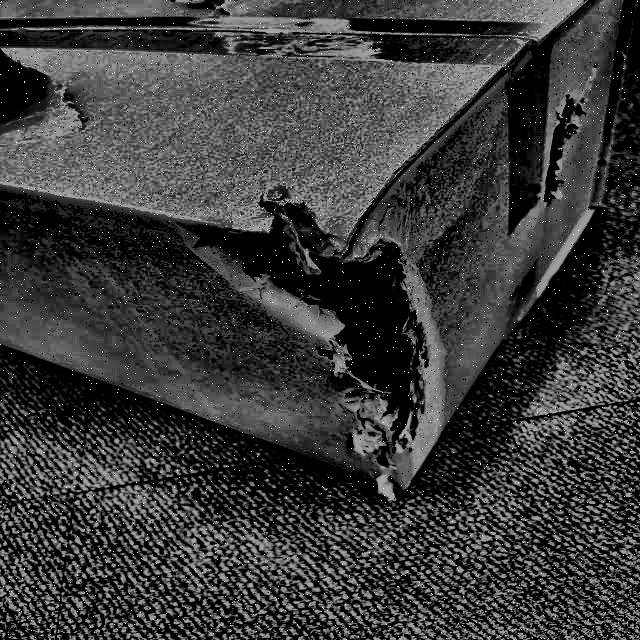box: (1, 0, 640, 510)
hole: (200, 202, 442, 484), (524, 81, 601, 215)
